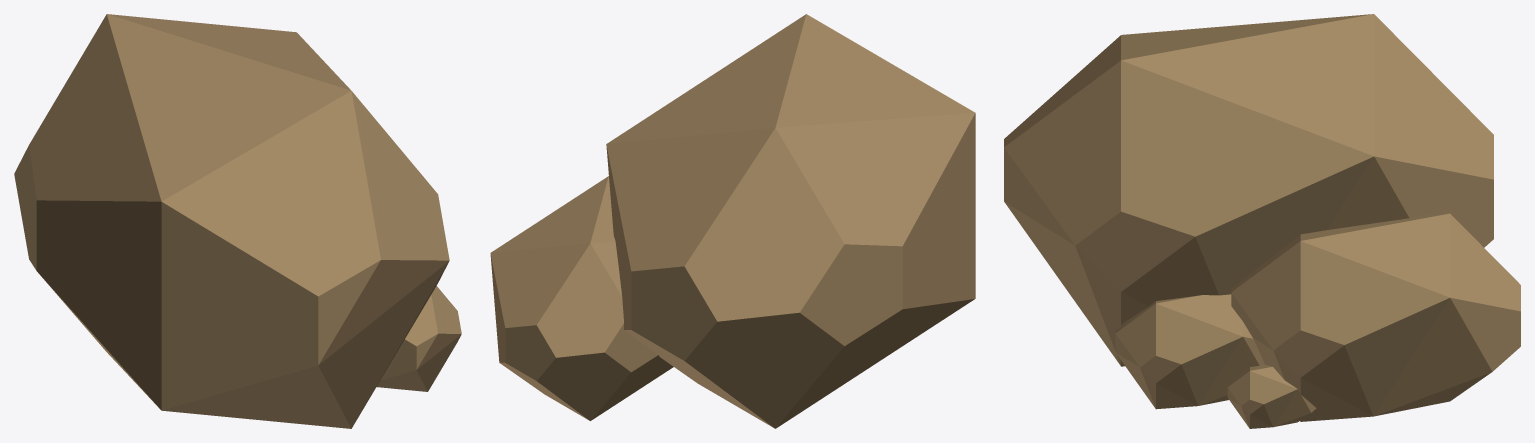
The model's file is rockfinal.fbx.
3 views of the same model, side by side, from view 1: azimuth 30°, elevation 25°; view 2: azimuth 150°, elevation 25°; view 3: azimuth 270°, elevation 25° (orthographic). The views are drawn at different scales.
Visible parts, largest first — view 1: Icosphere, Icosphere.002; view 2: Icosphere, Icosphere.001; view 3: Icosphere, Icosphere.001, Icosphere.002, Icosphere.003.
Part boxes in pixels (x1,y1,x2,y2): Icosphere: (14,14,449,428); Icosphere.002: (376,286,461,391); Icosphere: (606,14,975,428); Icosphere.001: (490,176,673,420); Icosphere: (1004,14,1493,366); Icosphere.001: (1231,213,1520,421); Icosphere.002: (1115,294,1264,409); Icosphere.003: (1227,365,1316,428).
Bounding box in the file's own units: 210 × 171 × 260.
